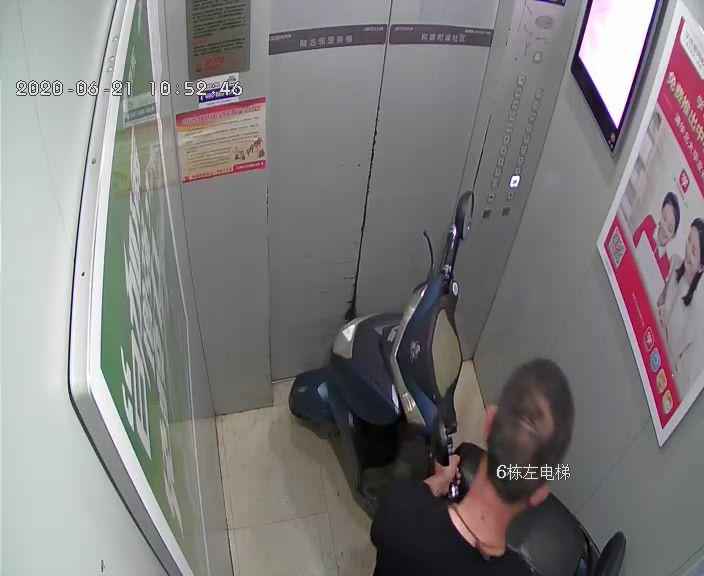Electric-bicycle: (289, 193, 621, 575)
